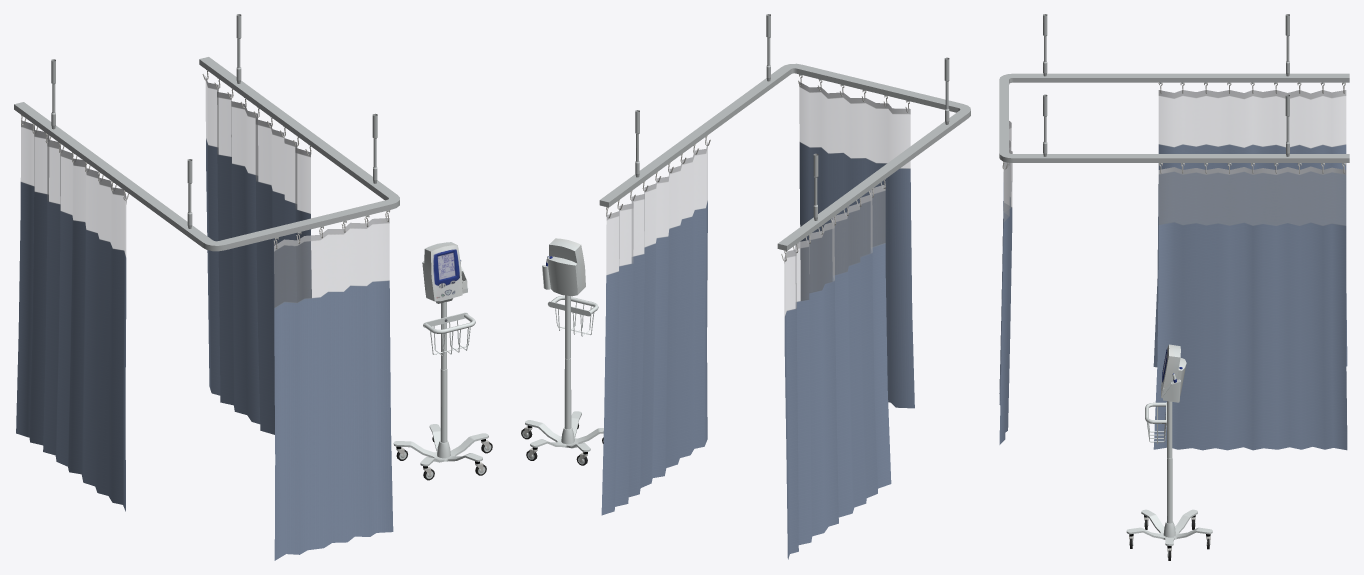
The picture shows the model from 3 angles, left to right: view 1: azimuth 30°, elevation 25°; view 2: azimuth 150°, elevation 25°; view 3: azimuth 270°, elevation 25°; orthographic projection. The views are drawn at different scales.
Parts seen in each view (by area): view 1: F_Curtain, L_Curtain, R_Curtain, Rail, VitalsMonitor, Screen; view 2: L_Curtain, R_Curtain, F_Curtain, Rail, VitalsMonitor, Screen; view 3: R_Curtain, L_Curtain, Rail, F_Curtain, VitalsMonitor, Screen.
Part boxes in pixels (<box>): F_Curtain: <box>274,218,393,560</box>; L_Curtain: <box>16,121,126,511</box>; R_Curtain: <box>205,76,311,434</box>; Rail: <box>14,14,399,251</box>; VitalsMonitor: <box>393,302,492,480</box>; Screen: <box>422,242,467,303</box>; L_Curtain: <box>784,184,891,559</box>; R_Curtain: <box>601,142,707,515</box>; F_Curtain: <box>799,82,914,408</box>; Rail: <box>599,14,970,250</box>; VitalsMonitor: <box>521,295,603,465</box>; Screen: <box>542,238,585,296</box>; R_Curtain: <box>1153,166,1347,450</box>; L_Curtain: <box>1153,90,1347,367</box>; Rail: <box>999,14,1349,162</box>; F_Curtain: <box>999,121,1012,444</box>; VitalsMonitor: <box>1126,401,1212,560</box>; Screen: <box>1161,344,1186,402</box>.
Bounding box in the file's own units: 8.16 × 8.97 × 7.39.
Materials: 2 (2 with a texture image).
